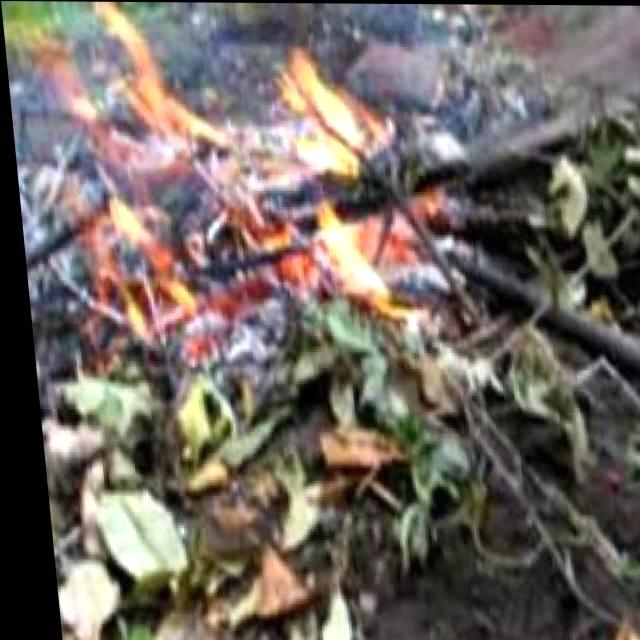fire: (34, 38, 430, 318)
